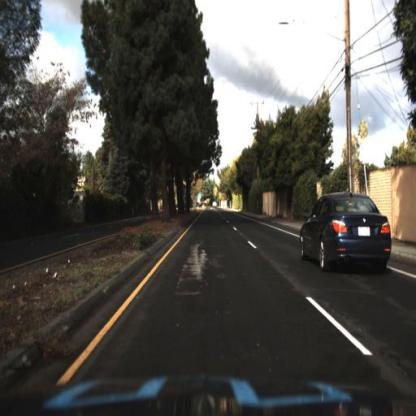car: (301, 188, 394, 284)
